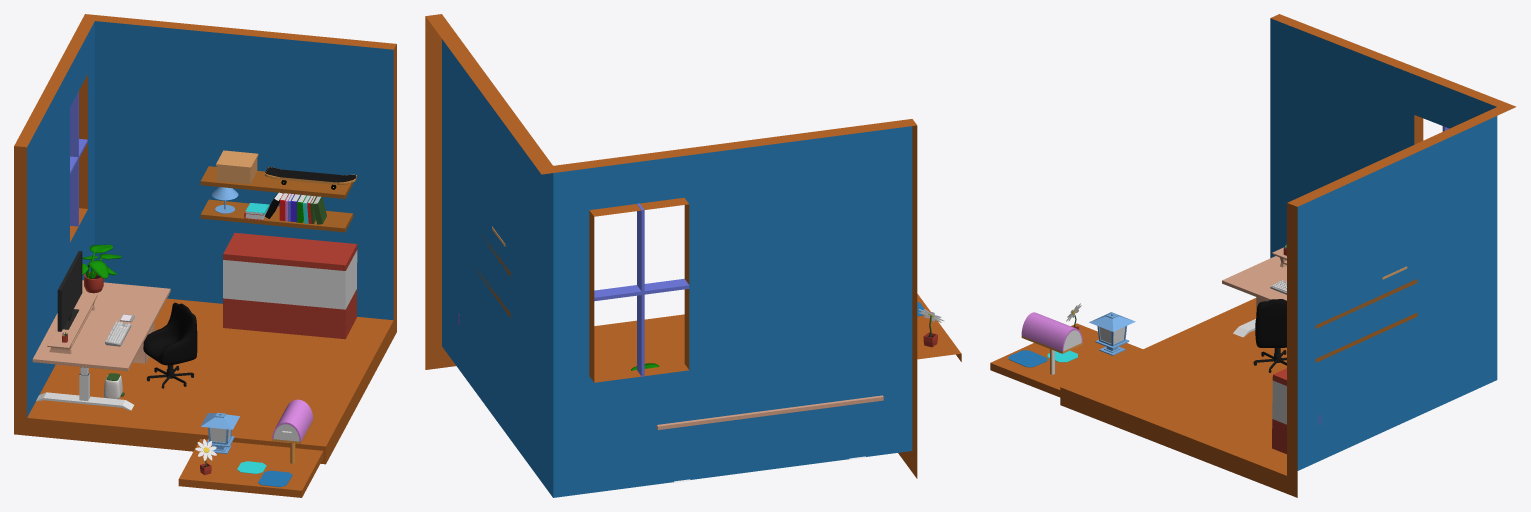
File: room.glb
3 renders of one model, left to right at view 1: azimuth 30°, elevation 25°; view 2: azimuth 150°, elevation 25°; view 3: azimuth 270°, elevation 25°, orthographic. The views are drawn at different scales.
Visible parts, largest first — view 1: Room, Cube.089, Table Top, AquaGlass, SlideFloor, Cube.091, Repisa Top, Repisa bottom, Cylinder.005, Window, Mistery Box, Over Table Table (+7 smaller); view 2: Room, Window, Table Top, SlideFloor; view 3: Room, SlideFloor, Cylinder.005, Table Top, Cube.091, Plane, Cube.089, AquaGlass.
Part boxes in pixels (box(x1,y1,x2,y2)): Room: box(14, 14, 396, 464); Cube.089: box(223, 232, 357, 339); Table Top: box(32, 280, 170, 371); AquaGlass: box(223, 250, 357, 309); SlideFloor: box(178, 439, 323, 497); Cube.091: box(143, 302, 197, 365); Repisa Top: box(200, 166, 353, 198); Repisa bottom: box(200, 199, 353, 232); Cylinder.005: box(272, 399, 313, 463); Window: box(70, 91, 87, 226); Mistery Box: box(216, 150, 258, 183); Over Table Table: box(47, 292, 97, 353); Room: box(425, 14, 917, 497); Window: box(594, 203, 689, 376); Table Top: box(656, 395, 883, 430); SlideFloor: box(917, 294, 961, 361); Room: box(1060, 14, 1516, 497); SlideFloor: box(990, 323, 1142, 397); Cylinder.005: box(1021, 312, 1082, 374); Table Top: box(1222, 256, 1286, 301); Cube.091: box(1255, 299, 1286, 347); Plane: box(1089, 312, 1135, 355); Cube.089: box(1272, 368, 1286, 453); AquaGlass: box(1272, 380, 1286, 424).
Size of the model in its own units: 22.74 by 16 by 26.23.
